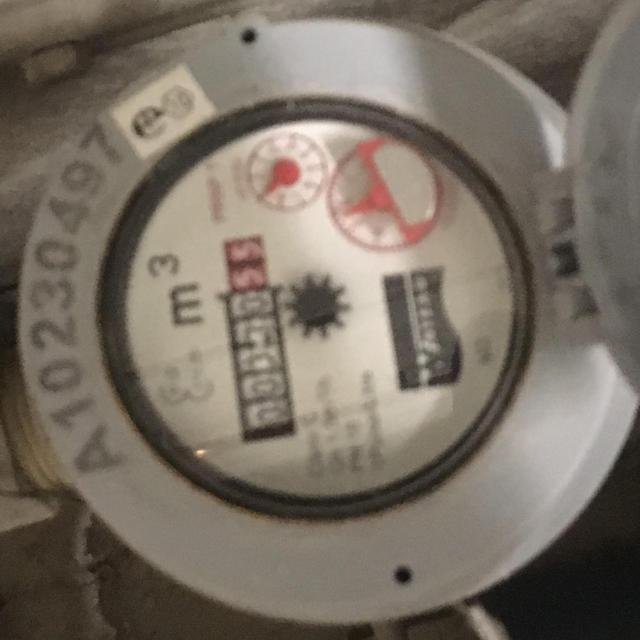gaz_meter: (120, 116, 516, 501)
indication: (214, 234, 295, 442)
